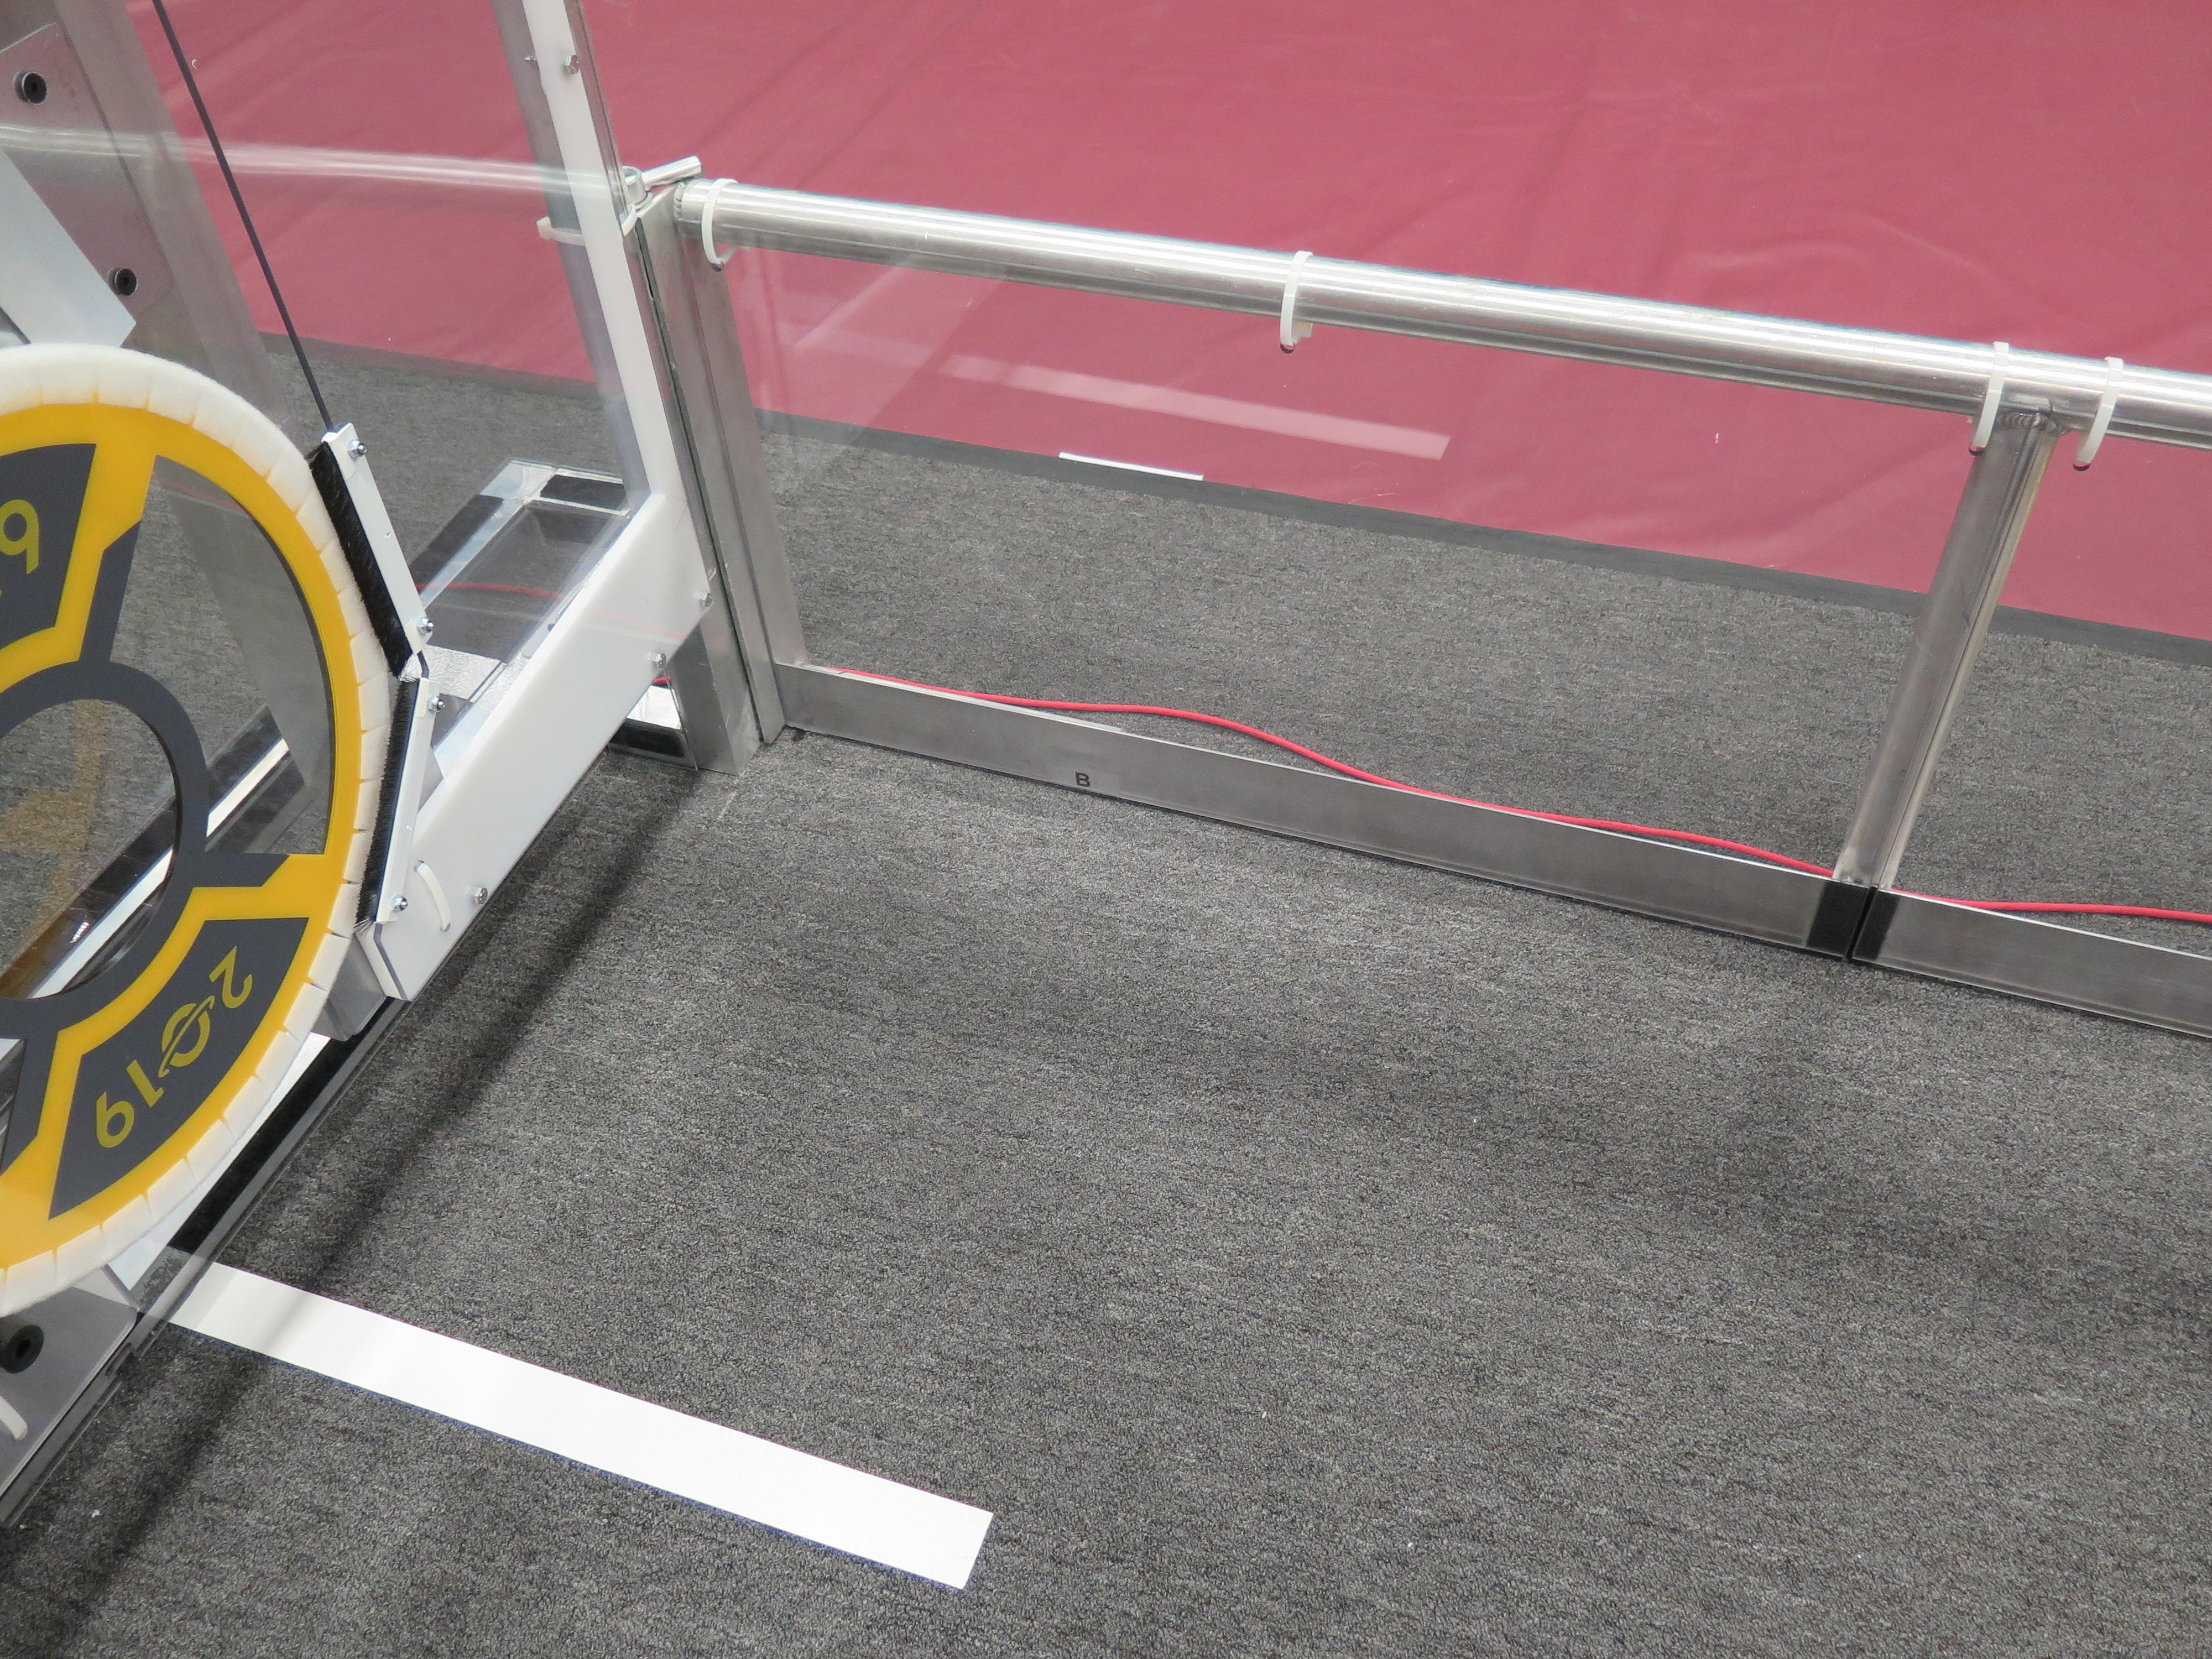Hatch: (0, 336, 394, 1324)
Tape: (0, 138, 136, 357)
